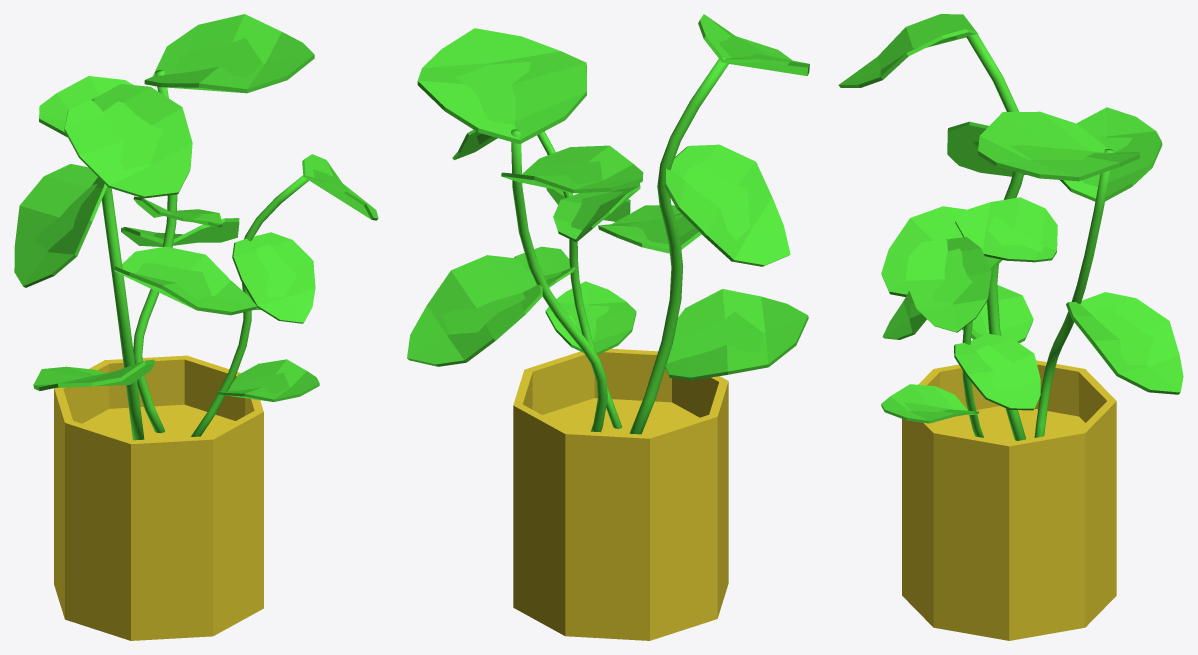
The model's file is pflanze.fbx.
The picture shows the model from 3 angles, left to right: view 1: azimuth 30°, elevation 25°; view 2: azimuth 150°, elevation 25°; view 3: azimuth 270°, elevation 25°; orthographic projection. The views are drawn at different scales.
Visible parts, largest first — view 1: Cylinder; view 2: Cylinder; view 3: Cylinder.
Boxes of the visible parts, box(x1,y1,x2,y2) form: Cylinder: box(14, 14, 378, 640); Cylinder: box(407, 14, 809, 640); Cylinder: box(838, 14, 1183, 640).
Size of the model in its own units: 41.37 by 63.17 by 36.63.
